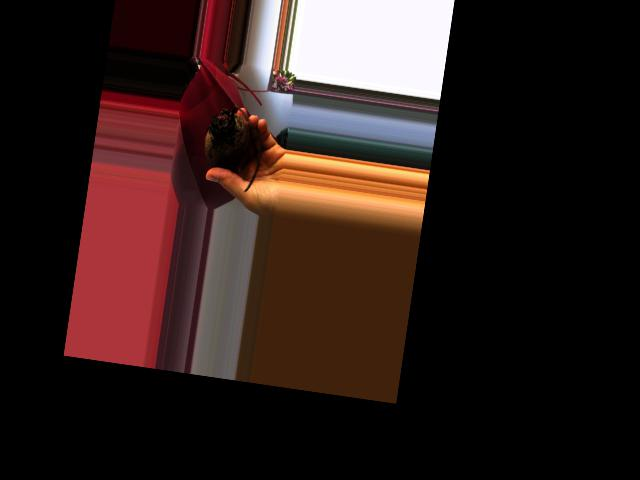beet: (198, 100, 267, 193)
